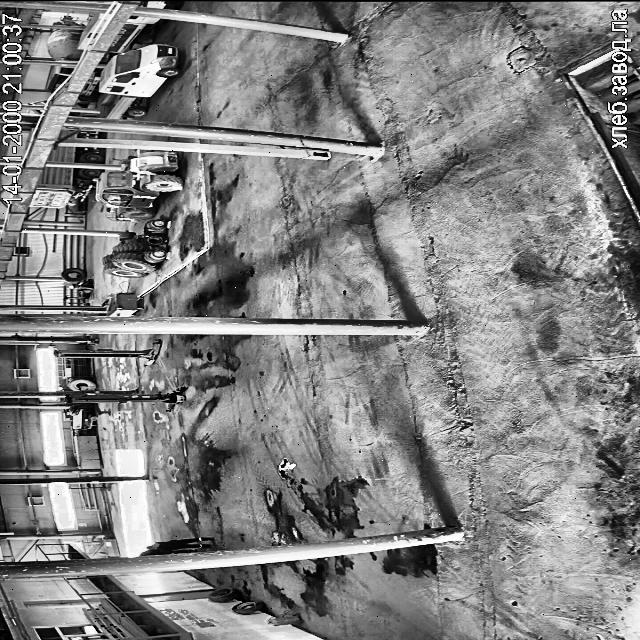car lift: (66, 388, 185, 411), (55, 340, 161, 365)
mechanic: (148, 537, 212, 550), (140, 548, 195, 556)
tractor: (96, 151, 181, 220), (102, 220, 165, 277)
truck: (100, 44, 180, 119), (28, 167, 100, 208), (108, 16, 158, 52), (46, 30, 82, 60), (48, 146, 102, 163), (77, 68, 100, 104), (80, 12, 102, 48), (45, 65, 73, 91), (140, 0, 178, 8), (76, 132, 97, 141), (60, 130, 74, 136), (57, 20, 76, 24)
